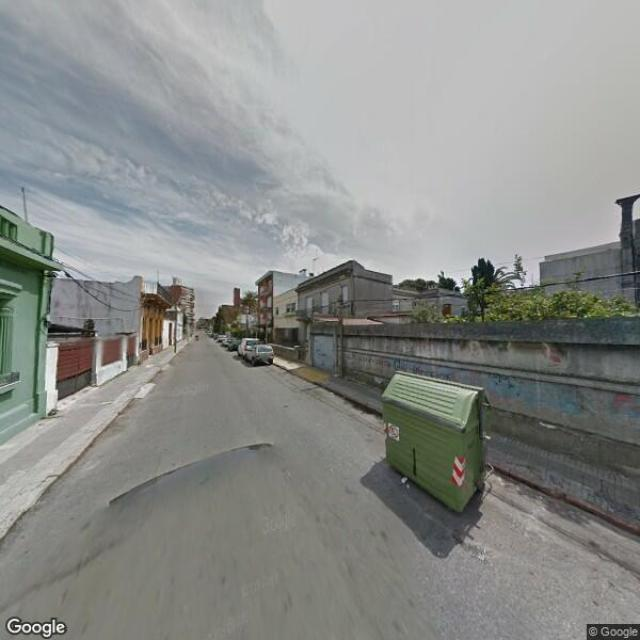garbage container: (375, 365, 513, 530)
